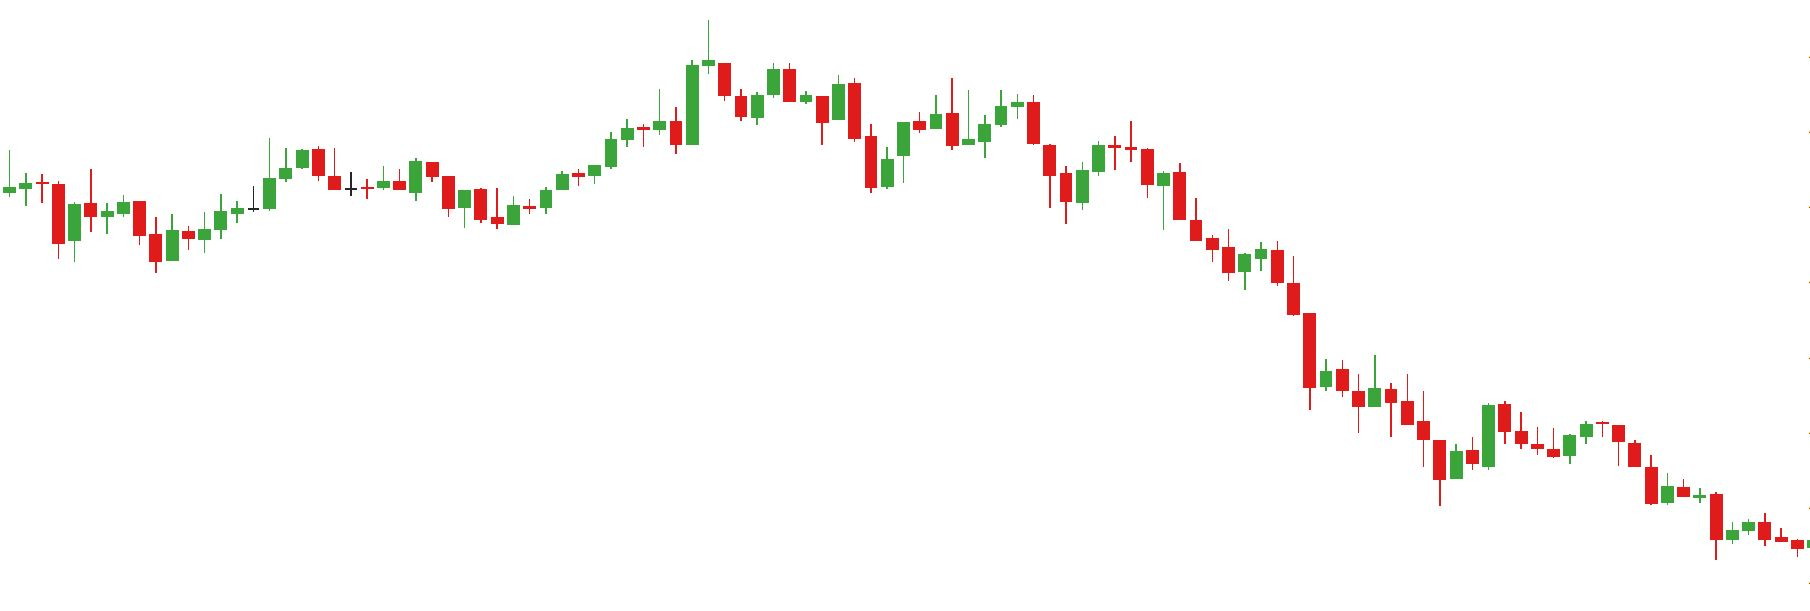buy: (51, 198, 181, 280)
sell: (846, 74, 960, 171)
